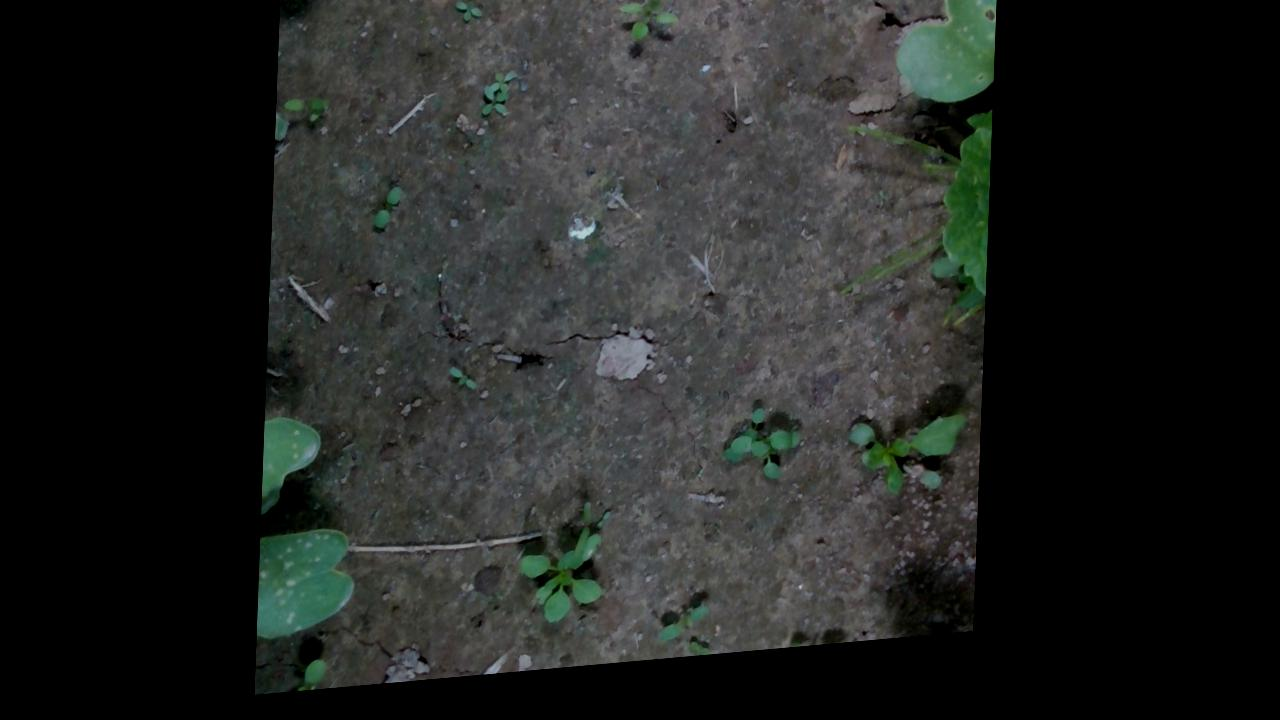weed: (616, 0, 685, 56), (665, 617, 717, 654), (376, 191, 406, 237), (295, 662, 334, 697), (284, 99, 333, 118), (791, 649, 858, 662), (454, 4, 485, 32), (451, 372, 483, 399)
